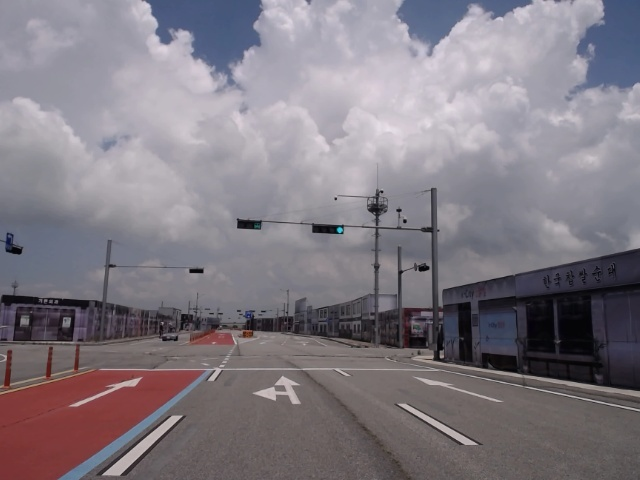straight_green_4: (310, 223, 346, 235)
